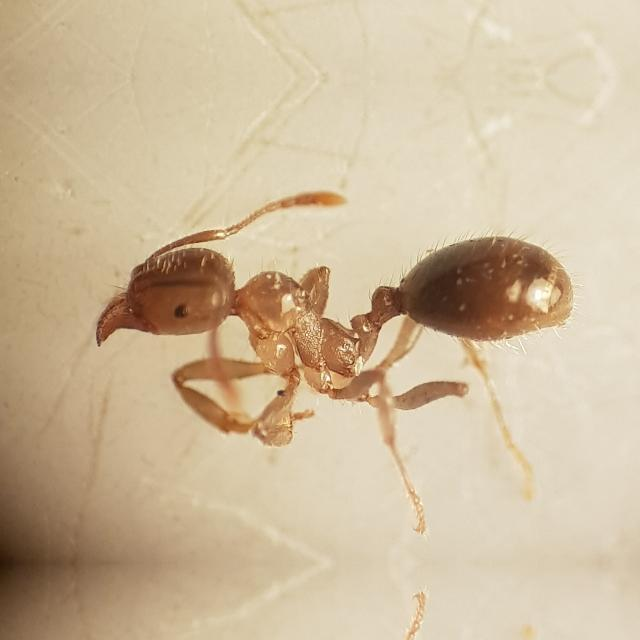Apheanogaster: (48, 178, 600, 487)
